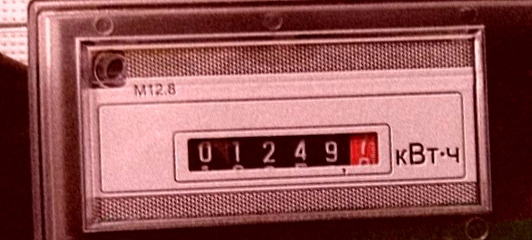0: (192, 137, 212, 165)
1: (225, 137, 242, 164)
2: (255, 139, 275, 166)
4: (288, 136, 307, 163)
7: (352, 129, 370, 157)
9: (317, 137, 337, 165)
screen: (164, 104, 395, 203)
